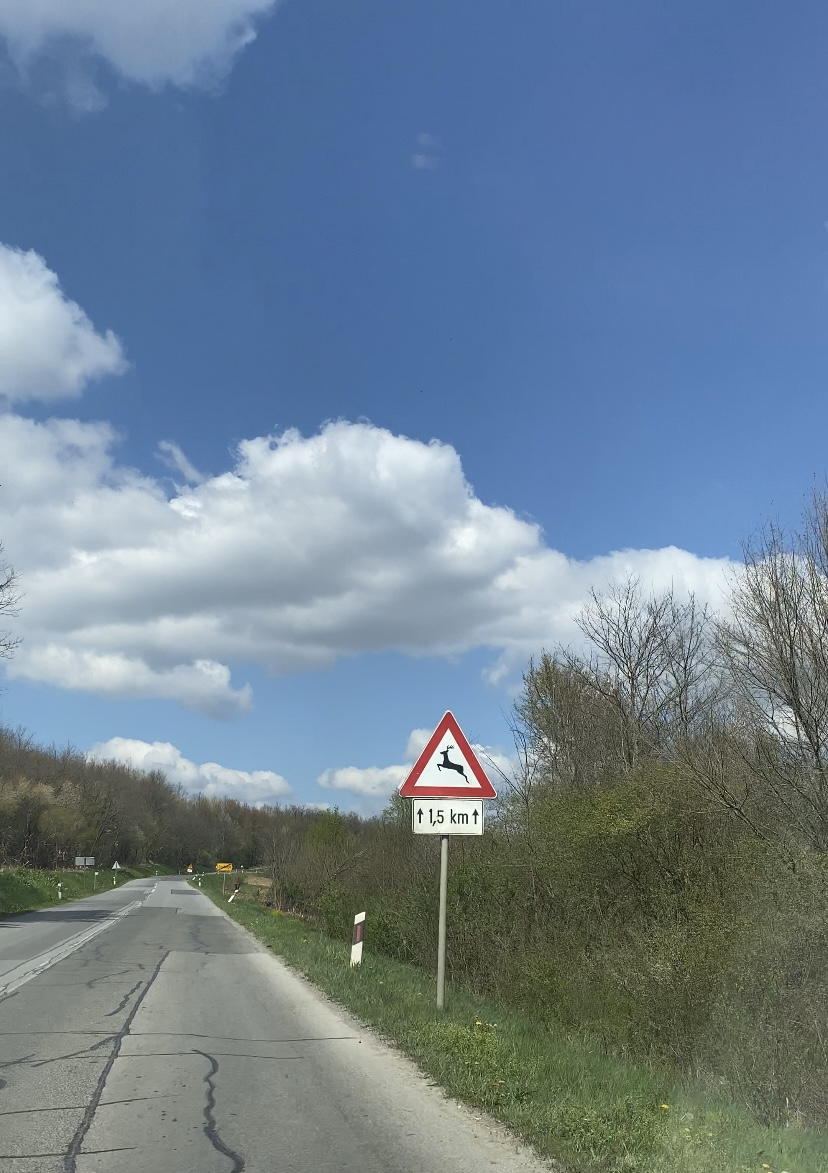Divljač na cesti: (399, 710, 497, 798)
